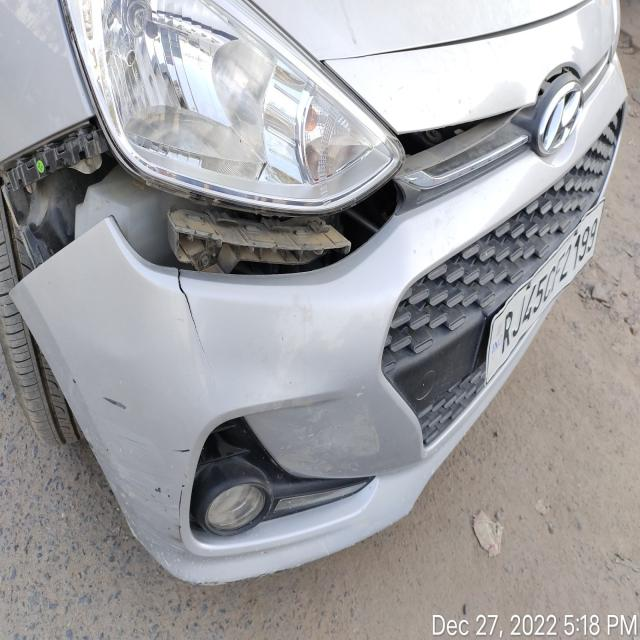damage: (0, 117, 399, 274), (170, 271, 213, 372)
